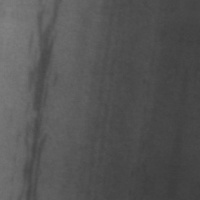inclusion: (13, 0, 70, 173)
